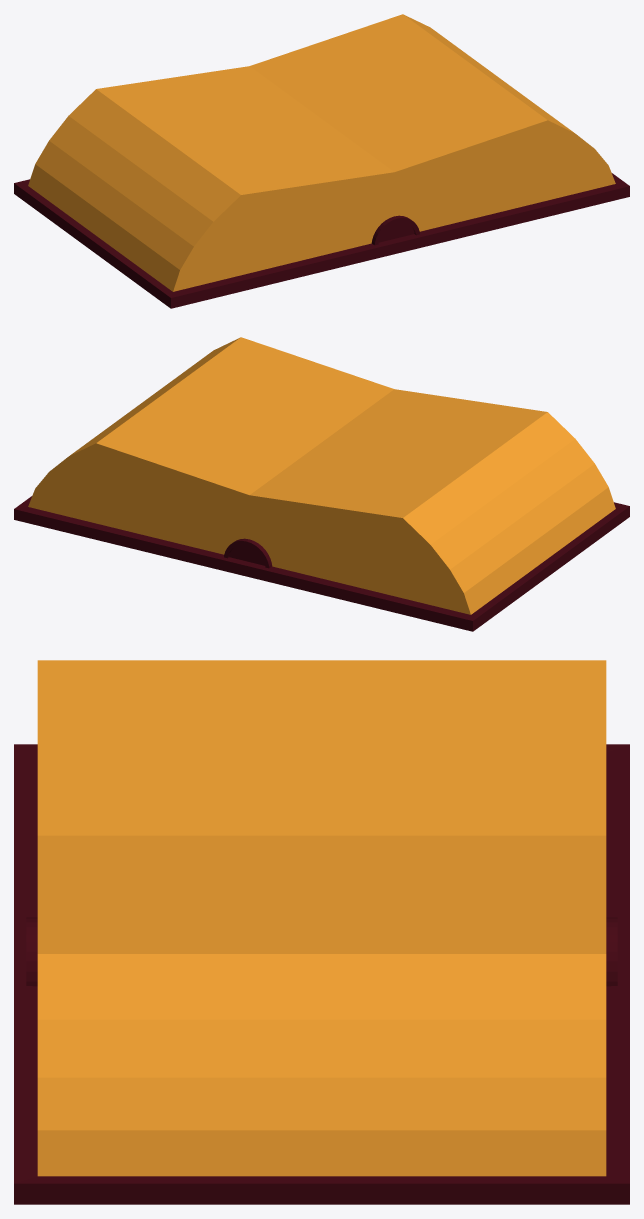
File: book.glb
3 renders of one model, top to bottom at view 1: azimuth 30°, elevation 25°; view 2: azimuth 150°, elevation 25°; view 3: azimuth 270°, elevation 25°, orthographic. The views are drawn at different scales.
Parts seen in each view (by area): view 1: Cube; view 2: Cube; view 3: Cube.
Part boxes in pixels (box(x1,y1,x2,y2)): Cube: box(14, 14, 629, 308); Cube: box(14, 337, 629, 631); Cube: box(14, 660, 629, 1204).
Bounding box in the file's own units: 11.97 × 2.26 × 7.09.
